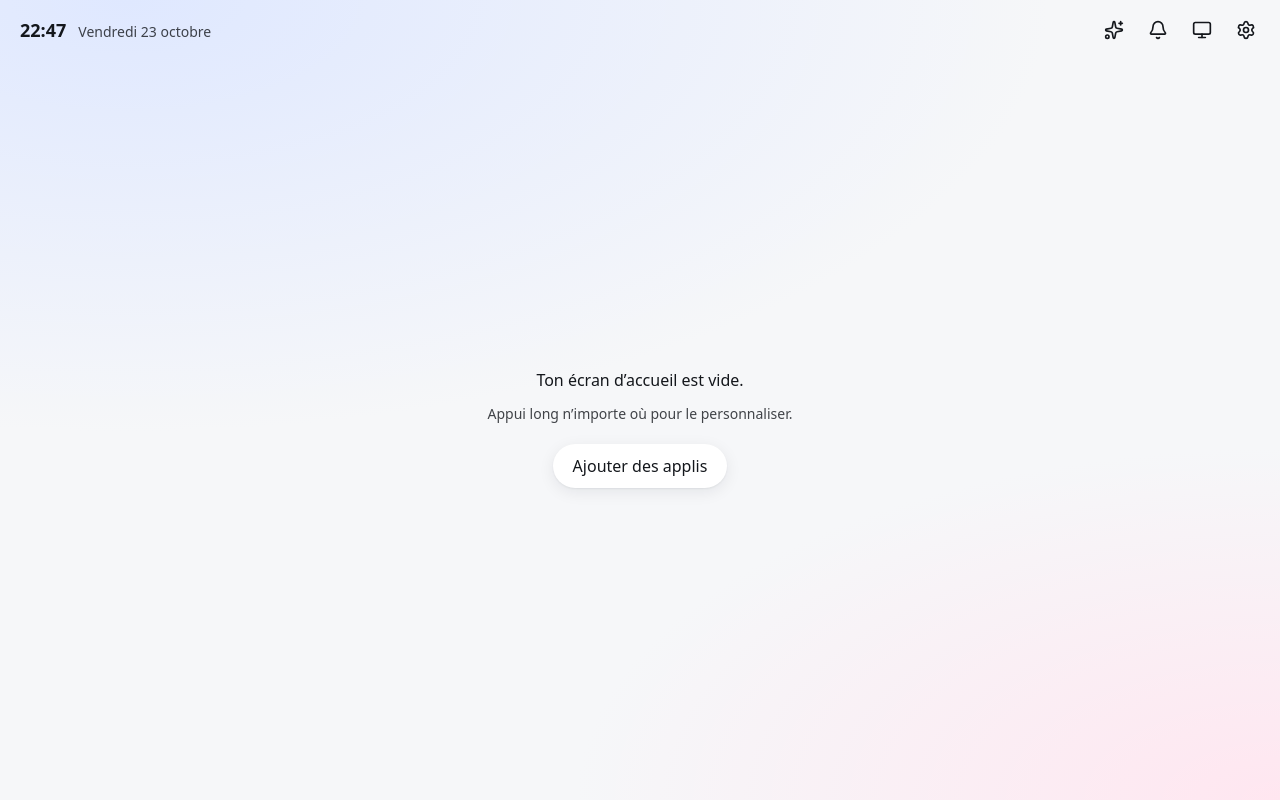
Test: Accueil personnalisable › ajoute un raccourci et un widget depuis le tiroir, puis les enregistre
Click the button "Ajouter des applis": [640, 466] box [553,444,727,488]
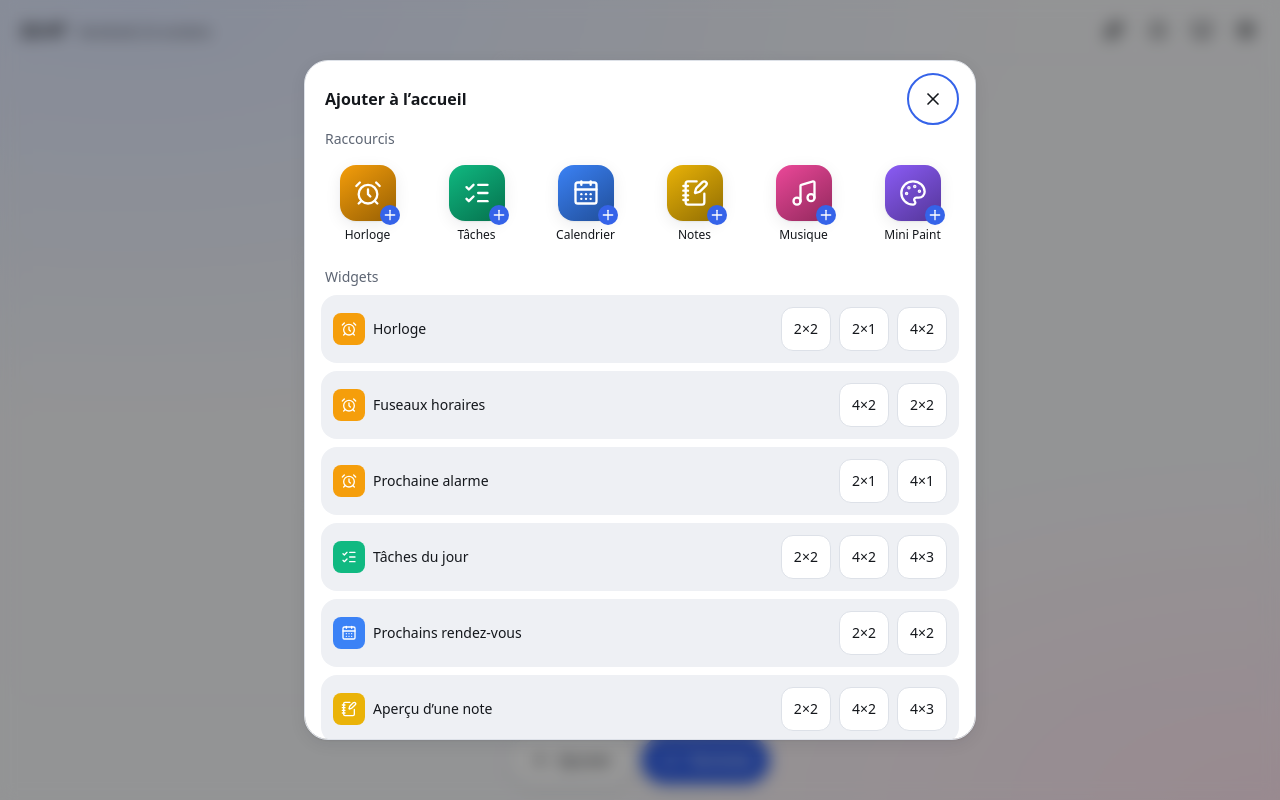
Click the button with aria-label "Ajouter le raccourci Notes": [694, 204] box [644,157,745,251]
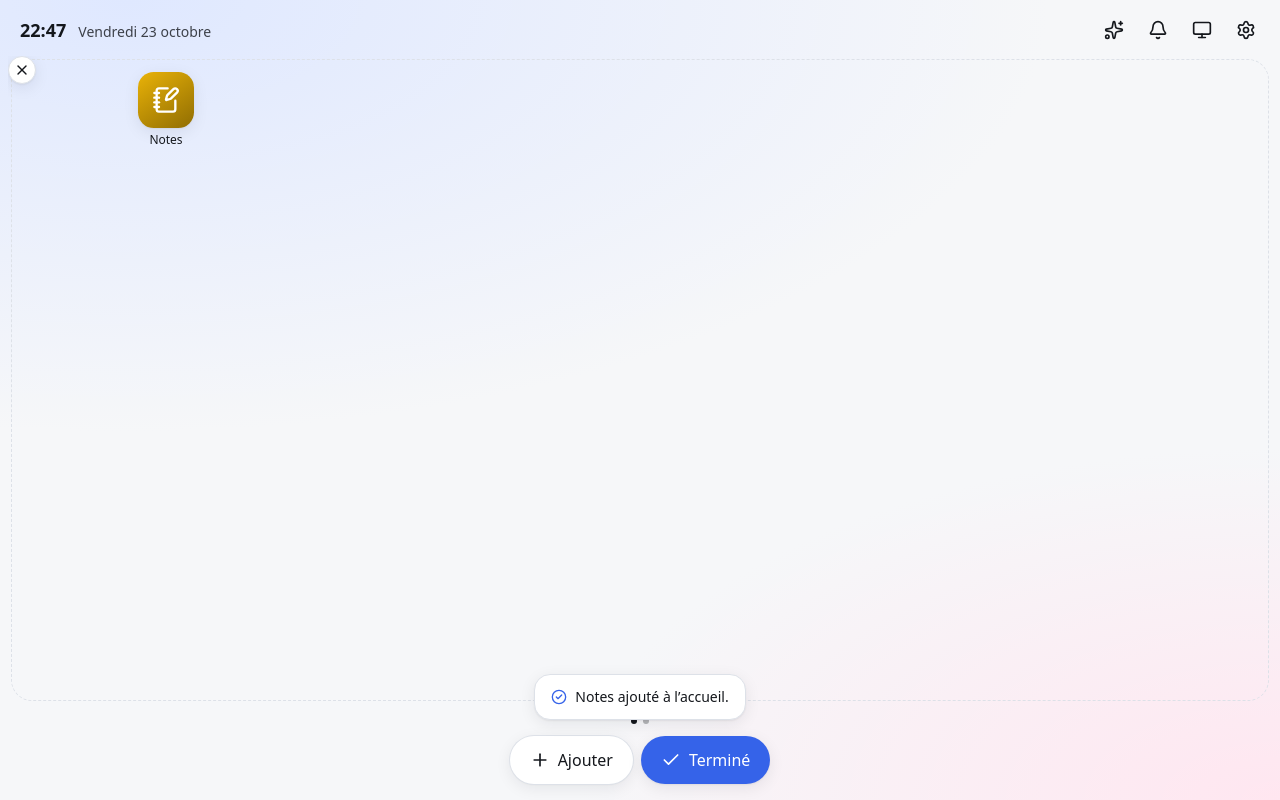
Click the button "Ajouter": [571, 760] box [510,736,633,784]
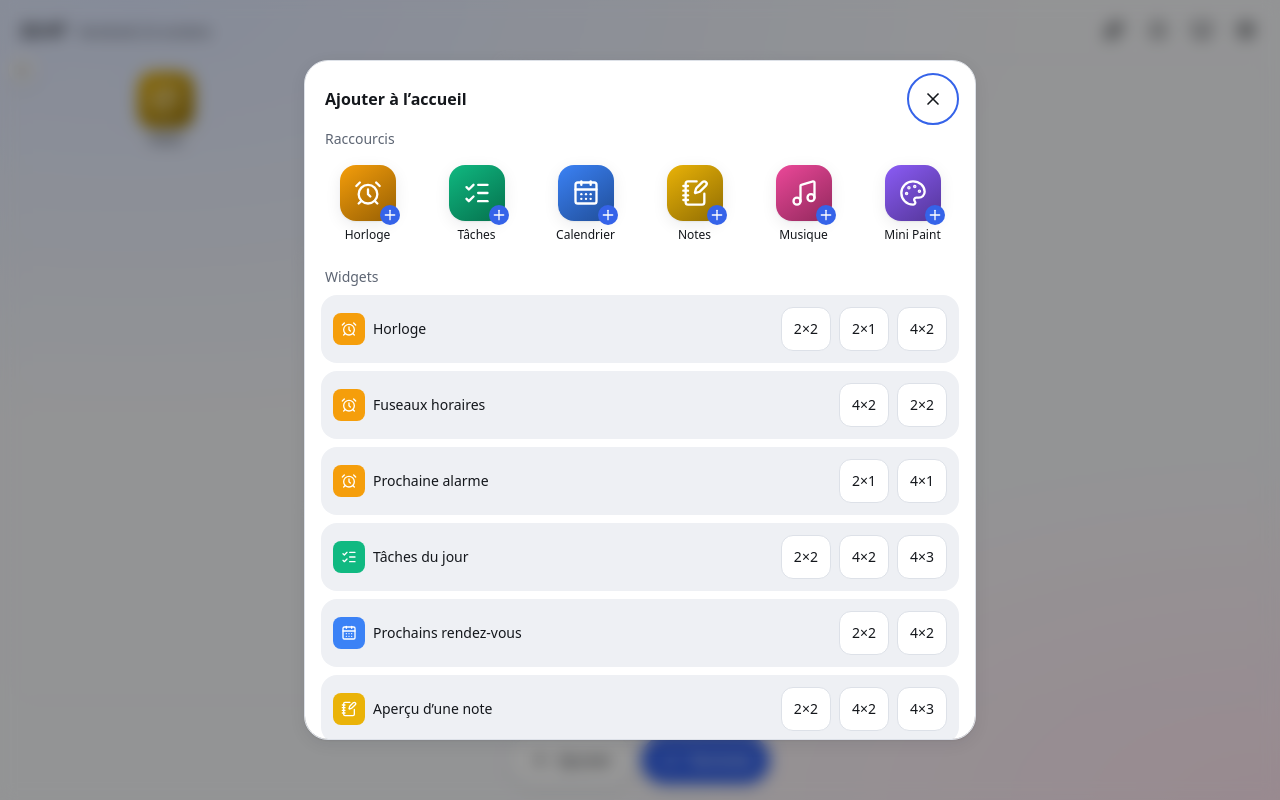
Click the button named "Ajouter le widget Horloge en 2×2": [806, 329] box [781,307,831,351]
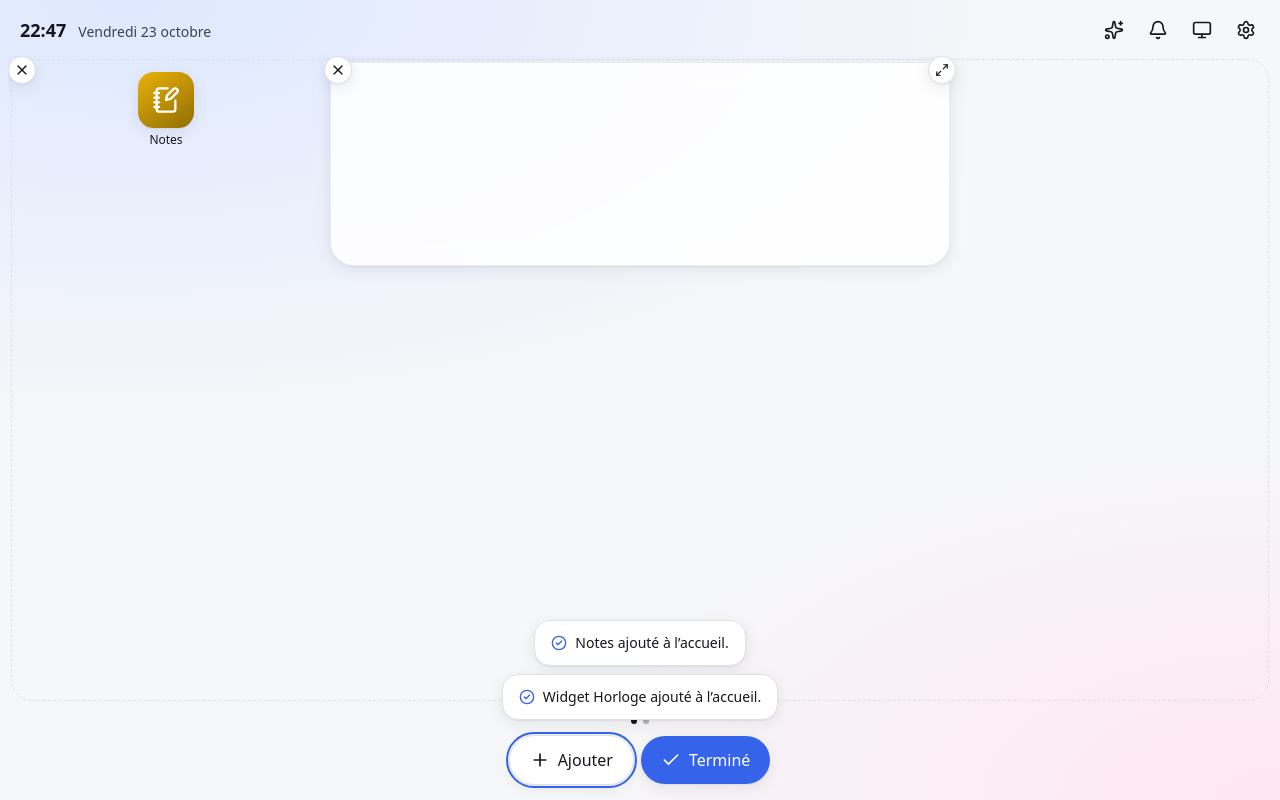
Click the button "Terminé": [706, 760] box [641,736,770,784]
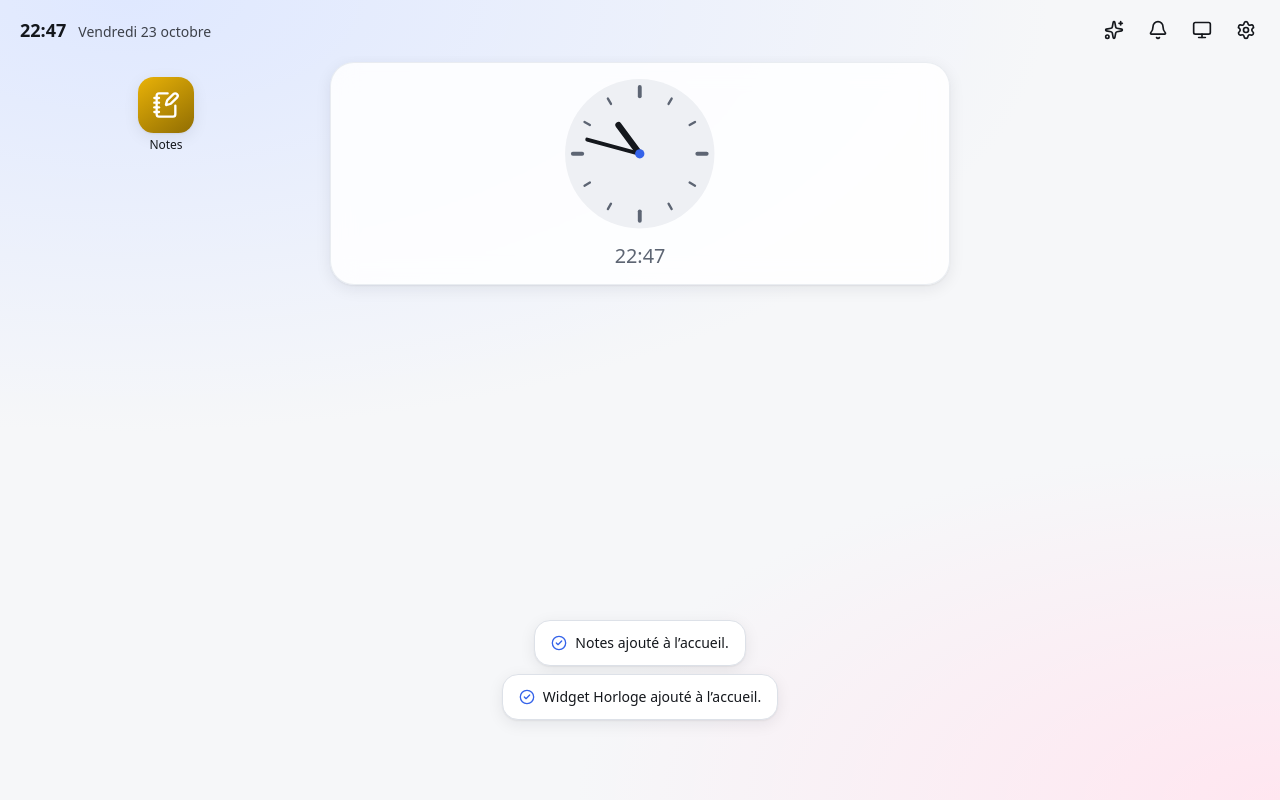
Now the link "Notes" is shown, box [138,77,194,153]
Now the element named "Widget Horloge" is shown, box [330,62,950,285]
